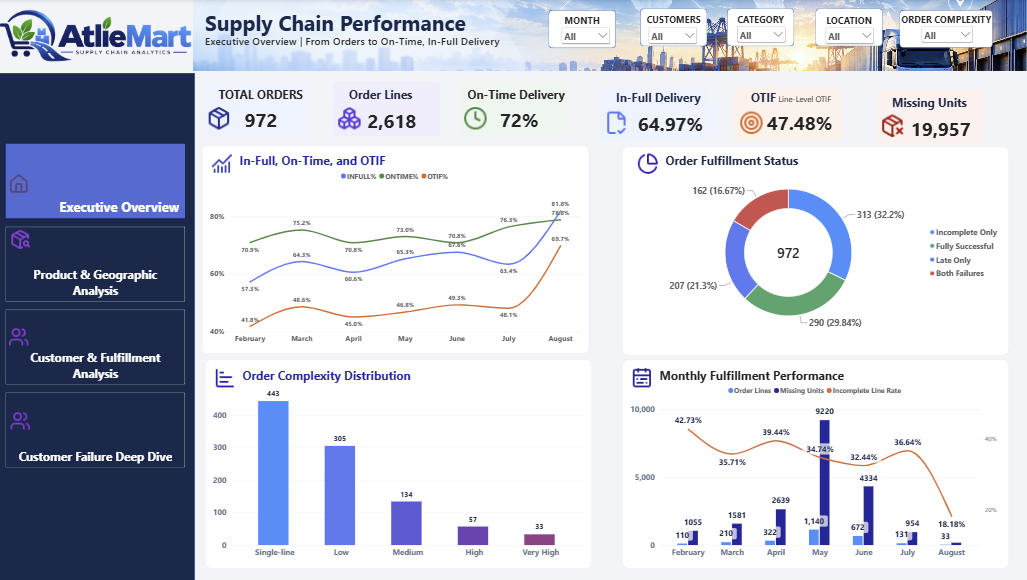

Layout of this report page (visuals, bound fields, positions):
{"tool":"powerbi","page":{"name":"Executive Overview","canvas":[2100,1200],"ordinal":0},"visuals":[{"type":"shape","box":[0,153.2,401,1047.6],"z":0,"group":"g1"},{"type":"group","id":"g1","title":"Group 5","box":[0,153.2,401,1047.6],"z":0},{"type":"shape","box":[417.1,171,220,110],"z":0,"group":"g4"},{"type":"shape","box":[680,171.4,220,110],"z":0,"group":"g5"},{"type":"cardVisual","fields":{"Data":["Measures_table.Order_lines"]},"box":[703.7,206,193.8,72],"z":0,"group":"g2"},{"type":"cardVisual","fields":{"Data":["Measures_table.Missing_units"]},"box":[1835.7,223.1,168.9,64.6],"z":0,"group":"g3"},{"type":"shape","box":[417.1,300,788.6,425.7],"z":0,"group":"g6"},{"type":"shape","box":[421.1,736.8,788.6,425.7],"z":0,"group":"g7"},{"type":"shape","box":[1271.9,737.8,788.6,425.7],"z":0,"group":"g8"},{"type":"group","id":"g2","title":"Group 2","box":[685.8,179.2,211.7,98.9],"z":1000,"group":"g5"},{"type":"cardVisual","fields":{"Data":["Measures_table.Total_Orders"]},"box":[476.5,205.8,124.2,69.6],"z":1000,"group":"g4"},{"type":"image","box":[685.8,220.5,56,50],"z":1000,"group":"g2"},{"type":"image","box":[1794.4,235.7,56,50],"z":1000,"group":"g3"},{"type":"pageNavigator","box":[15.8,295.9,366.5,660.3],"z":1000,"group":"g1"},{"type":"shape","box":[1271.9,303.1,788.6,425.7],"z":1000},{"type":"lineChart","fields":{"Category":["date_table.month_name"],"Y":["Measures_table.INFULL%","Measures_table.ONTIME%","Measures_table.OTIF%"]},"box":[417.1,334.3,788.6,391.4],"z":1000,"group":"g6"},{"type":"columnChart","fields":{"Category":["Order_Complexity.complexity_Category"],"Y":["Count(fact_order_line_rows.order_id)"]},"box":[421.1,771.1,788.6,391.4],"z":1000,"group":"g7"},{"type":"lineClusteredColumnComboChart","fields":{"Category":["date_table.month_name"],"Y":["Measures_table.Order_lines","Measures_table.Missing_units"],"Y2":["Measures_table.Incomplete_order"]},"box":[1271.9,772.1,788.6,391.4],"z":1000,"group":"g8"},{"type":"textbox","box":[713.7,179.2,176.9,33.3],"z":2000,"group":"g2"},{"type":"shape","box":[1788.6,186.7,220,110],"z":2000},{"type":"textbox","box":[1822.3,194.4,176.9,33.3],"z":2000,"group":"g3"},{"type":"image","box":[422.9,220,56,50],"z":2000,"group":"g4"},{"type":"textbox","box":[495,314.3,551.7,37.1],"z":2000,"group":"g6"},{"type":"image","box":[18.1,469.7,54.1,42.8],"z":2000,"group":"g1"},{"type":"textbox","box":[499,751.1,551.7,37.1],"z":2000,"group":"g7"},{"type":"textbox","box":[1349.8,752.1,551.7,37.1],"z":2000,"group":"g8"},{"type":"textbox","box":[450.8,178.8,176.9,33.3],"z":3000,"group":"g4"},{"type":"image","box":[430.1,314.3,56.8,45],"z":3000,"group":"g6"},{"type":"image","box":[15.8,668.7,54.1,42.8],"z":3000,"group":"g1"},{"type":"image","box":[434.1,751.1,56.8,45],"z":3000,"group":"g7"},{"type":"image","box":[1284.9,752.1,56.8,45],"z":3000,"group":"g8"},{"type":"image","box":[18.9,838.9,54.1,42.8],"z":3000},{"type":"shape","box":[940,171.4,220,110],"z":4000},{"type":"textbox","box":[1360.7,314.3,551.7,37.1],"z":5000},{"type":"image","box":[15.8,359.4,54.1,42.8],"z":5000,"group":"g1"},{"type":"image","box":[1295.8,314.3,56.8,45],"z":6000},{"type":"shape","box":[1225.7,180,220,110],"z":7000},{"type":"shape","box":[1500,180,220,110],"z":8000},{"type":"image","box":[0,0,400,154],"z":9000},{"type":"cardVisual","fields":{"Data":["Measures_table.ONTIME%"]},"box":[1003.6,206.2,119.2,82],"z":10000},{"type":"cardVisual","fields":{"Data":["Measures_table.INFULL%"]},"box":[1271.4,214.3,197.1,65.7],"z":11000},{"type":"cardVisual","fields":{"Data":["Measures_table.OTIF%"]},"box":[1547.7,211.2,173.9,72],"z":12000},{"type":"image","box":[398.8,0,1700.9,148.7],"z":13000},{"type":"image","box":[945.8,220.5,56,50],"z":14000},{"type":"image","box":[1231.5,229,56,50],"z":15000},{"type":"image","box":[1505.8,229,56,50],"z":16000},{"type":"textbox","box":[422.3,19.9,628.5,84.5],"z":17000},{"type":"textbox","box":[957.1,180,277.1,34.3],"z":18000},{"type":"textbox","box":[1259.4,187.8,176.9,33.3],"z":19000},{"type":"textbox","box":[1533.7,187.8,176.9,33.3],"z":20000},{"type":"textbox","box":[421.3,72.1,757,38.3],"z":21000},{"type":"shape","box":[1666,22.5,137,77],"z":22000},{"type":"shape","box":[1307.8,22.5,137,77],"z":23000},{"type":"shape","box":[1121.7,23.3,137.3,77.7],"z":24000},{"type":"shape","box":[1485.7,22.5,137,77],"z":25000},{"type":"shape","box":[1836.7,23.3,190,77],"z":26000},{"type":"group","id":"g3","title":"Group 2","box":[1794.4,194.4,210.3,93.3],"z":27000},{"type":"slicer","fields":{"Values":["dim_products_rows.category"]},"box":[1499.9,51.8,109.3,84.5],"z":28000},{"type":"slicer","fields":{"Values":["dim_customers_rows.city"]},"box":[1681.2,54.4,109.3,84.5],"z":29000},{"type":"slicer","fields":{"Values":["Order_Complexity.complexity_Category"]},"box":[1875.5,51.8,115.1,81.2],"z":30000},{"type":"slicer","fields":{"Values":["dim_customers_rows.customer_name"]},"box":[1321.2,54.4,109.3,84.5],"z":31000},{"type":"slicer","fields":{"Values":["date_table.month_name"]},"box":[1142.4,54.4,109.3,84.5],"z":32000},{"type":"textbox","box":[1282.3,31.1,186.4,85.3],"z":33000},{"type":"textbox","box":[1095.8,33.7,186.4,85.3],"z":34000},{"type":"textbox","box":[1639.8,33.7,186.4,85.3],"z":35000},{"type":"textbox","box":[1834.1,31.1,196.9,44],"z":36000},{"type":"textbox","box":[1461,31.1,186.4,85.3],"z":37000},{"type":"group","id":"g4","title":"Group 1","box":[417.1,171,220,110],"z":38000},{"type":"group","id":"g5","title":"Group 3","box":[680,171.4,220,110],"z":39000},{"type":"group","id":"g6","title":"Group 4","box":[417.1,300,788.6,425.7],"z":40000},{"type":"donutChart","fields":{"Category":["Order_Complexity.Fulfillment_Status"],"Y":["Count(fact_order_line_rows.order_id)"]},"box":[1306.7,332.9,752.7,372.6],"z":41000},{"type":"group","id":"g7","title":"Group 4","box":[421.1,736.8,789.5,426.3],"z":42000},{"type":"group","id":"g8","title":"Group 4","box":[1271.9,737.8,787.5,424.8],"z":43000}]}

Visuals, with their boxes in screenshot pixels (x1, y1, x2, y2), scaled from the page's 2100x1200 canvas onto the 1027x580 screenshot:
shape: 0, 74, 196, 579
"Group 5" group: 0, 74, 196, 579
shape: 204, 83, 312, 136
shape: 333, 83, 440, 136
cardVisual - Measures_table.Order_lines: 344, 100, 439, 134
cardVisual - Measures_table.Missing_units: 898, 108, 980, 139
shape: 204, 145, 590, 351
shape: 206, 356, 592, 562
shape: 622, 357, 1008, 562
"Group 2" group: 335, 87, 439, 134
cardVisual - Measures_table.Total_Orders: 233, 99, 294, 133
image: 335, 107, 363, 131
image: 878, 114, 905, 138
pageNavigator: 8, 143, 187, 462
shape: 622, 146, 1008, 352
lineChart - date_table.month_name x Measures_table.INFULL%: 204, 162, 590, 351
columnChart - Order_Complexity.complexity_Category x Count(fact_order_line_rows.order_id): 206, 373, 592, 562
lineClusteredColumnComboChart - date_table.month_name x Measures_table.Order_lines: 622, 373, 1008, 562
textbox: 349, 87, 436, 103
shape: 875, 90, 982, 143
textbox: 891, 94, 978, 110
image: 207, 106, 234, 130
textbox: 242, 152, 512, 170
image: 9, 227, 35, 248
textbox: 244, 363, 514, 381
textbox: 660, 364, 930, 381
textbox: 220, 86, 307, 103
image: 210, 152, 238, 174
image: 8, 323, 34, 344
image: 212, 363, 240, 385
image: 628, 364, 656, 385
image: 9, 405, 36, 426
shape: 460, 83, 567, 136
textbox: 665, 152, 935, 170
image: 8, 174, 34, 194
image: 634, 152, 661, 174
shape: 599, 87, 707, 140
shape: 734, 87, 841, 140
image: 0, 0, 196, 74
cardVisual - Measures_table.ONTIME%: 491, 100, 549, 139
cardVisual - Measures_table.INFULL%: 622, 104, 718, 135
cardVisual - Measures_table.OTIF%: 757, 102, 842, 137
image: 195, 0, 1026, 72
image: 463, 107, 490, 131
image: 602, 111, 630, 135
image: 736, 111, 764, 135
textbox: 207, 10, 514, 50
textbox: 468, 87, 604, 104
textbox: 616, 91, 702, 107
textbox: 750, 91, 837, 107
textbox: 206, 35, 576, 53
shape: 815, 11, 882, 48
shape: 640, 11, 707, 48
shape: 549, 11, 616, 49
shape: 727, 11, 794, 48
shape: 898, 11, 991, 48
"Group 2" group: 878, 94, 980, 139
slicer - dim_products_rows.category: 734, 25, 787, 66
slicer - dim_customers_rows.city: 822, 26, 876, 67
slicer - Order_Complexity.complexity_Category: 917, 25, 973, 64
slicer - dim_customers_rows.customer_name: 646, 26, 700, 67
slicer - date_table.month_name: 559, 26, 612, 67
textbox: 627, 15, 718, 56
textbox: 536, 16, 627, 58
textbox: 802, 16, 893, 58
textbox: 897, 15, 993, 36
textbox: 714, 15, 806, 56
"Group 1" group: 204, 83, 312, 136
"Group 3" group: 333, 83, 440, 136
"Group 4" group: 204, 145, 590, 351
donutChart - Order_Complexity.Fulfillment_Status x Count(fact_order_line_rows.order_id): 639, 161, 1007, 341
"Group 4" group: 206, 356, 592, 562
"Group 4" group: 622, 357, 1007, 562
